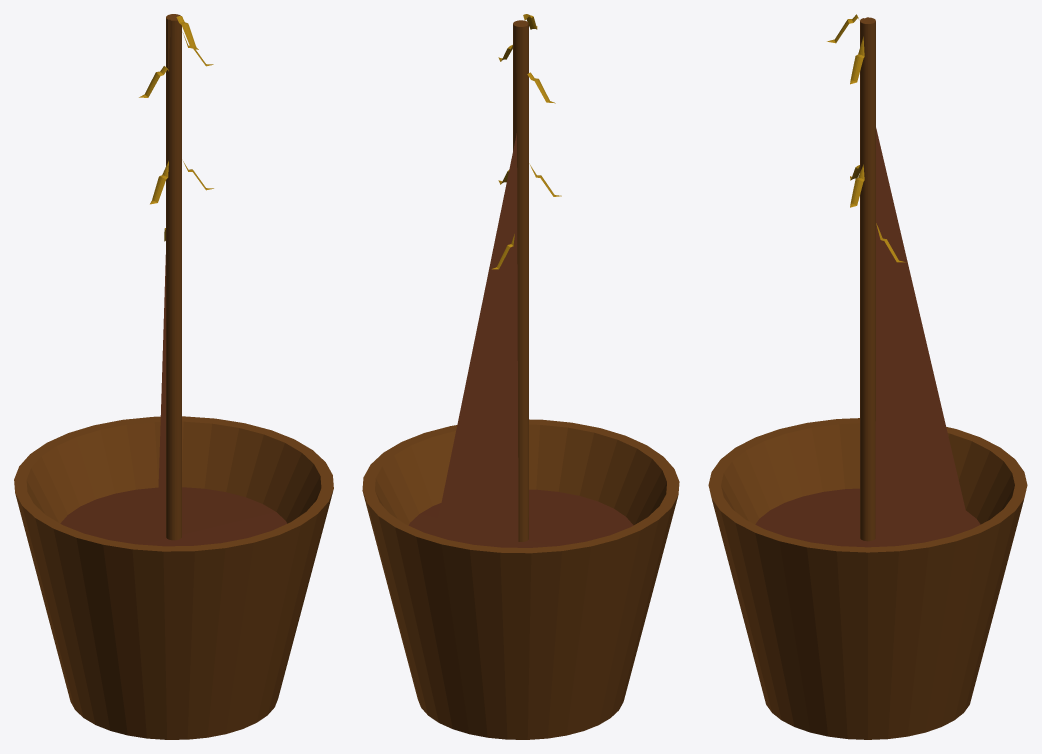
File: PlantaSeca.fbx
The picture shows the model from 3 angles, left to right: view 1: azimuth 30°, elevation 25°; view 2: azimuth 150°, elevation 25°; view 3: azimuth 270°, elevation 25°; orthographic projection.
Parts seen in each view (by area): view 1: Cilindro; view 2: Cilindro; view 3: Cilindro.
Boxes of the visible parts, x1,y1,x2,y2 form: Cilindro: (14,14,333,739); Cilindro: (362,14,679,739); Cilindro: (708,14,1027,739).
Bounding box in the file's own units: 457 × 1076 × 457.
